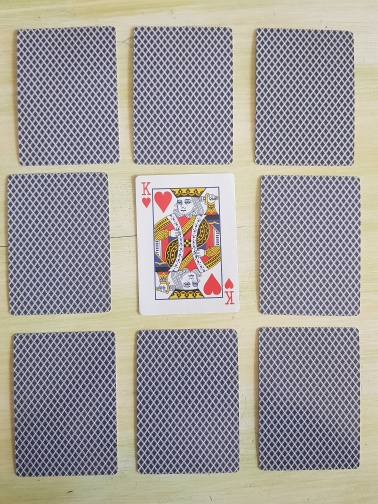king: (135, 171, 241, 316)
